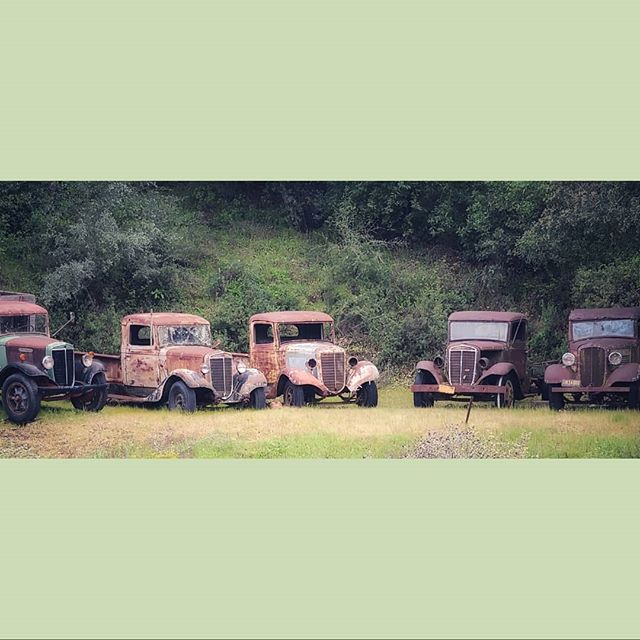car: (105, 309, 262, 417), (233, 307, 390, 415), (392, 306, 549, 414), (1, 287, 114, 416), (536, 300, 640, 411)
vegetation: (1, 178, 640, 304)
